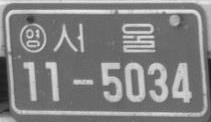-: (72, 76, 93, 89)
0: (123, 61, 146, 103)
1: (42, 61, 66, 101), (19, 61, 42, 101)
3: (146, 61, 170, 103)
4: (170, 61, 192, 103)
5: (100, 61, 123, 102)
서울_D: (53, 22, 156, 53)
영: (18, 22, 47, 54)
